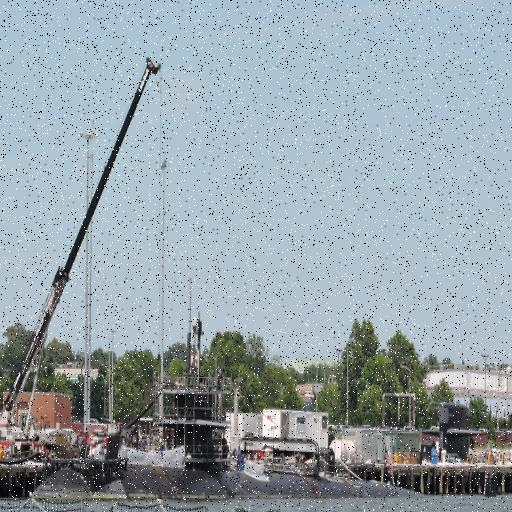submarine: (34, 379, 422, 500)
